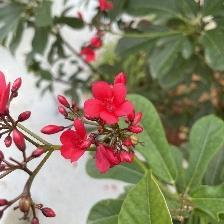jatropha: (83, 78, 133, 130)
